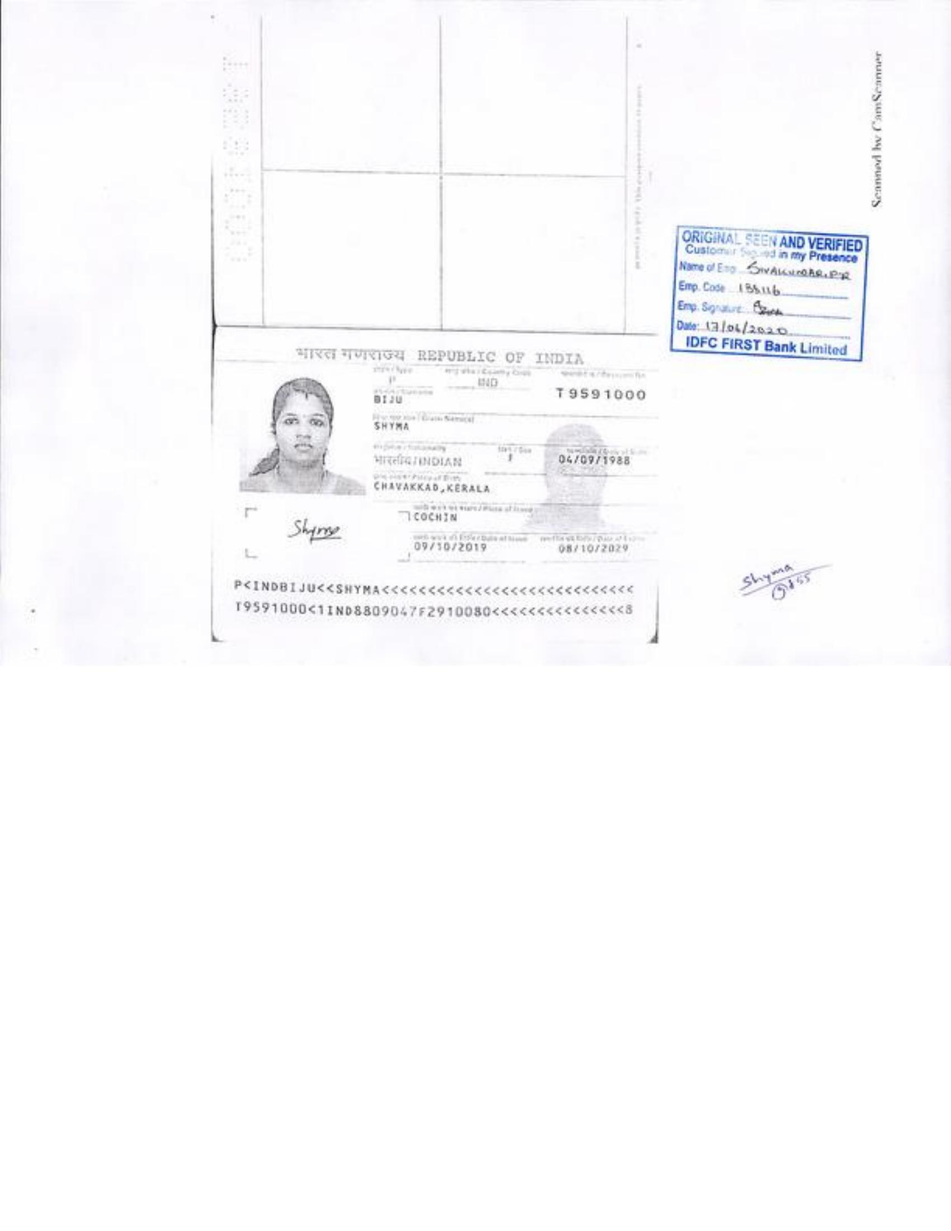DOB: (544, 381, 657, 406), (544, 450, 644, 474)
Surname: (373, 392, 408, 408)
country_code: (474, 373, 506, 393)
date_of_expiry: (544, 538, 646, 560)
date_of_issue: (407, 535, 497, 557)
details: (227, 571, 648, 625)
name: (371, 419, 423, 443)
nationality: (368, 455, 489, 481)
passport_no: (545, 380, 655, 406)
photo: (241, 374, 360, 494)
place_of_birth: (365, 478, 503, 498)
place_of_issue: (410, 510, 475, 528)
sex: (495, 449, 530, 471)
sign: (278, 508, 353, 549)
type: (375, 371, 404, 392)
